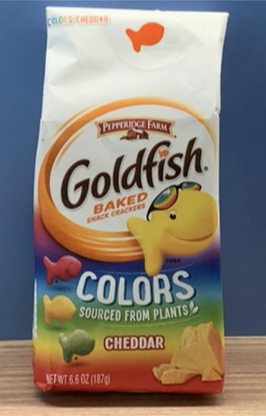crackers_100g-199g: (42, 97, 220, 386)
